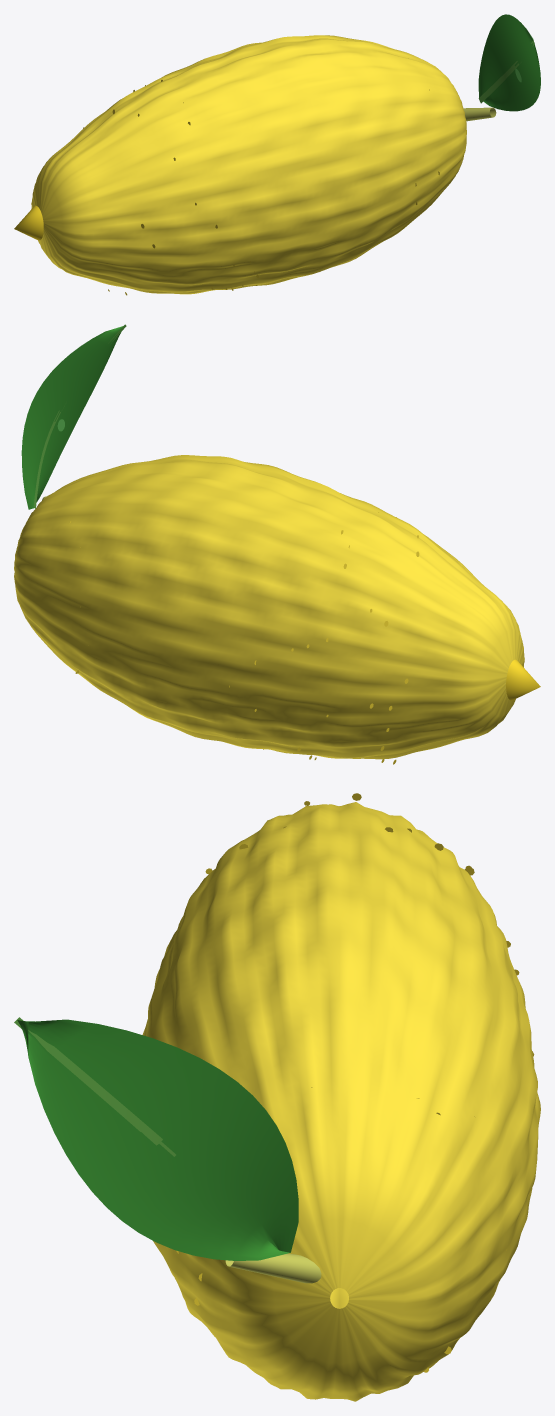
Rendered from reference_lemon_with_leaf.glb.
The picture shows the model from 3 angles, top to bottom: view 1: azimuth 30°, elevation 25°; view 2: azimuth 150°, elevation 25°; view 3: azimuth 270°, elevation 25°; orthographic projection. The views are drawn at different scales.
Visible parts, largest first — view 1: reference_lemon_part_00, reference_lemon_part_03, reference_lemon_part_01, reference_lemon_part_02; view 2: reference_lemon_part_00, reference_lemon_part_03, reference_lemon_part_01; view 3: reference_lemon_part_00, reference_lemon_part_03, reference_lemon_part_02, reference_lemon_part_04.
Part boxes in pixels (x1=…): reference_lemon_part_00: x1=31, y1=35, x2=466, y2=294; reference_lemon_part_03: x1=478, y1=14, x2=540, y2=111; reference_lemon_part_01: x1=14, y1=205, x2=43, y2=240; reference_lemon_part_02: x1=463, y1=107, x2=496, y2=121; reference_lemon_part_00: x1=14, y1=455, x2=524, y2=759; reference_lemon_part_03: x1=21, y1=326, x2=123, y2=509; reference_lemon_part_01: x1=506, y1=659, x2=540, y2=700; reference_lemon_part_00: x1=142, y1=802, x2=540, y2=1401; reference_lemon_part_03: x1=17, y1=1019, x2=298, y2=1260; reference_lemon_part_02: x1=225, y1=1253, x2=321, y2=1283; reference_lemon_part_04: x1=14, y1=1017, x2=175, y2=1156.
Size of the model in its own units: 3.15 by 1.63 by 1.57.
